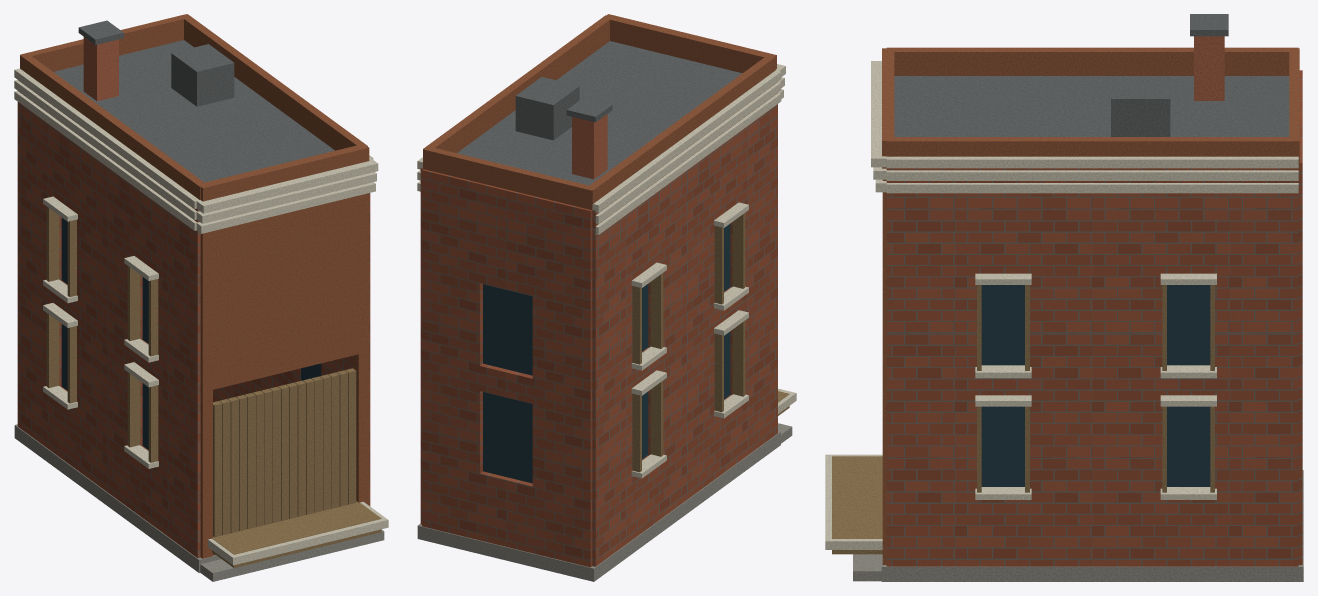
Rendered from WHSE16_lod2.glb.
The picture shows the model from 3 angles, left to right: view 1: azimuth 30°, elevation 25°; view 2: azimuth 150°, elevation 25°; view 3: azimuth 270°, elevation 25°; orthographic projection. The views are drawn at different scales.
Parts seen in each view (by area): view 1: WHSE16_LOD2; view 2: WHSE16_LOD2; view 3: WHSE16_LOD2.
Boxes of the visible parts, left/top/right/bottom form: WHSE16_LOD2: left=14, top=14, right=388, bottom=581; WHSE16_LOD2: left=417, top=14, right=796, bottom=581; WHSE16_LOD2: left=825, top=14, right=1303, bottom=581.
Size of the model in its own units: 3.71 by 7.85 by 6.97.
8 materials, 7 textured.
